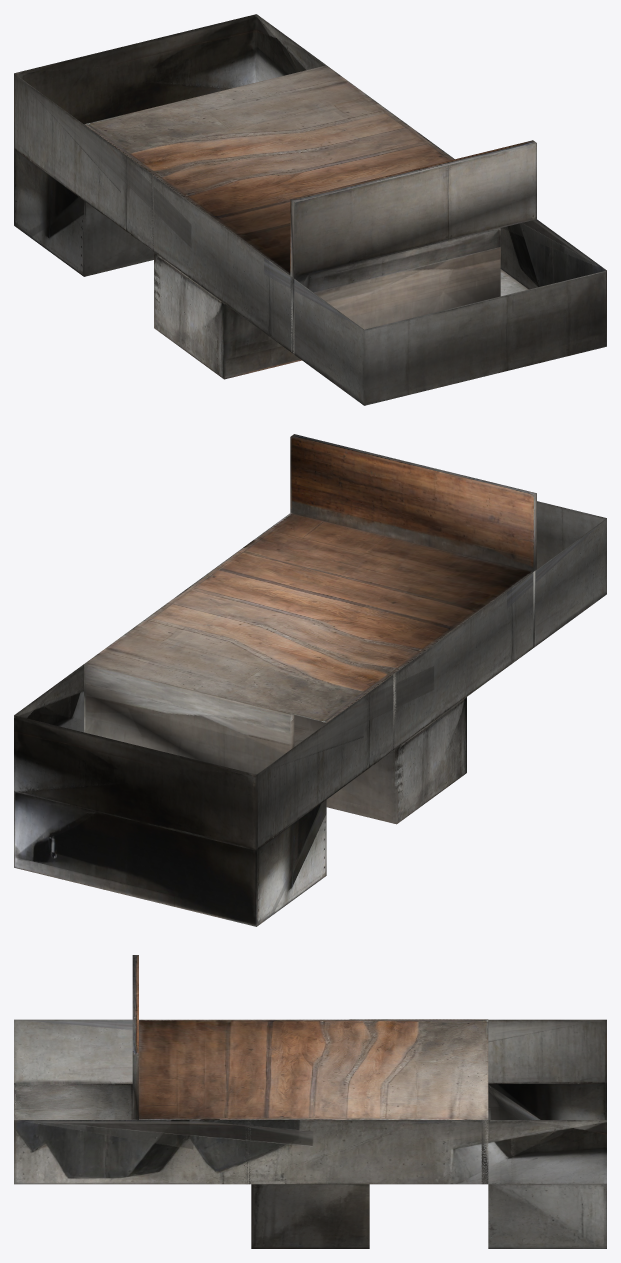
The picture shows the model from 3 angles, top to bottom: view 1: azimuth 30°, elevation 25°; view 2: azimuth 150°, elevation 25°; view 3: azimuth 270°, elevation 25°; orthographic projection. The views are drawn at different scales.
Visible parts, largest first — view 1: Mesh_0; view 2: Mesh_0; view 3: Mesh_0.
Boxes of the visible parts, bbox=[...] form: Mesh_0: bbox=[14, 14, 606, 405]; Mesh_0: bbox=[14, 434, 606, 926]; Mesh_0: bbox=[14, 955, 606, 1248].
Size of what is drawn, in the model's own units: 10.05 by 9.04 by 25.12.
1 material, 1 textured.
